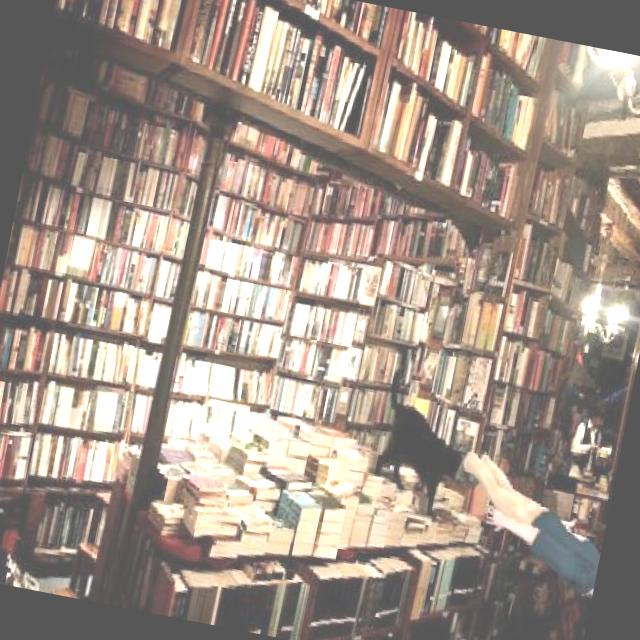Person: (434, 444, 614, 598)
